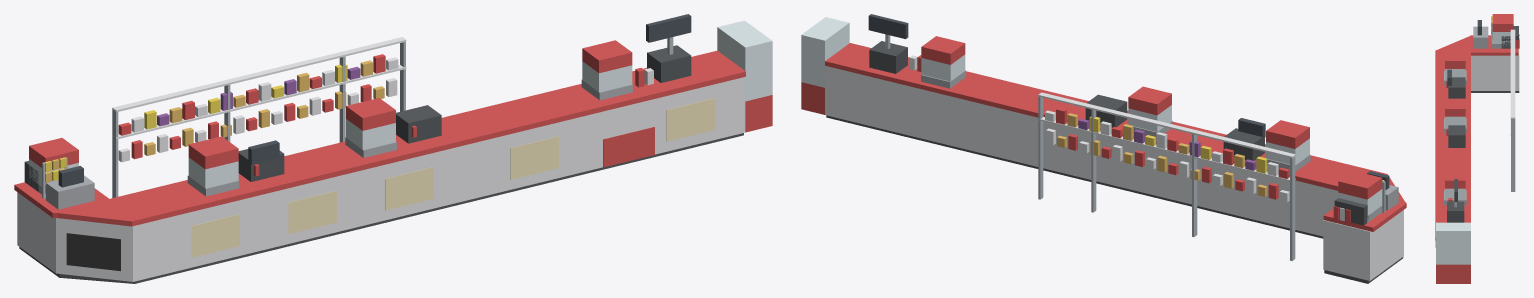
The model's file is bancone-snack.glb.
3 views of the same model, side by side, from view 1: azimuth 30°, elevation 25°; view 2: azimuth 150°, elevation 25°; view 3: azimuth 270°, elevation 25° (orthographic). The views are drawn at different scales.
Visible parts, largest first — view 1: Snack_white, Snack_red, Snack_add_white, Snack_add_cream, Snack_glass, Snack_add_red, Snack_dark, Snack_add_dark, Snack_add_glass, Snack_add_redcup, Snack_add_candy2, Snack_add_grey (+8 smaller); view 2: Snack_white, Snack_red, Snack_add_white, Snack_glass, Snack_add_red, Snack_dark, Snack_add_metal, Snack_add_dark, Snack_add_redcup, Snack_add_glass, Snack_add_candy2, Snack_add_grey (+4 smaller); view 3: Snack_red, Snack_glass, Snack_white, Snack_add_red, Snack_add_dark, Snack_add_glass, Snack_add_white, Snack_add_grey, Snack_dark, Snack_add_metal, Snack_add_screen, Snack_screen (+1 smaller).
Part boxes in pixels (x1,y1,x2,y2): Snack_white: (17, 44, 745, 281); Snack_red: (14, 40, 772, 226); Snack_add_white: (112, 37, 406, 162); Snack_add_cream: (191, 167, 433, 257); Snack_glass: (582, 20, 772, 101); Snack_add_red: (29, 98, 416, 176); Snack_dark: (19, 45, 743, 283); Snack_add_dark: (24, 105, 441, 191); Snack_add_glass: (29, 119, 395, 188); Snack_add_redcup: (118, 54, 385, 159); Snack_add_candy2: (45, 60, 384, 182); Snack_add_grey: (28, 137, 396, 209); Snack_white: (825, 39, 1403, 280); Snack_red: (801, 36, 1406, 231); Snack_add_white: (1038, 92, 1344, 220); Snack_glass: (801, 17, 965, 87); Snack_add_red: (1128, 86, 1382, 199); Snack_dark: (826, 41, 1403, 283); Snack_add_metal: (1038, 96, 1385, 260); Snack_add_dark: (1085, 94, 1368, 225); Snack_add_redcup: (1056, 107, 1350, 222); Snack_add_glass: (1128, 105, 1382, 215); Snack_add_candy2: (1057, 113, 1267, 196); Snack_add_grey: (1133, 121, 1398, 222); Snack_red: (1435, 35, 1518, 283); Snack_glass: (1436, 188, 1470, 264); Snack_white: (1438, 49, 1519, 252); Snack_add_red: (1445, 14, 1513, 135); Snack_add_dark: (1448, 26, 1518, 147); Snack_add_glass: (1445, 32, 1510, 128); Snack_add_white: (1510, 29, 1519, 135); Snack_add_grey: (1444, 26, 1510, 133); Snack_dark: (1447, 91, 1519, 222); Snack_add_metal: (1491, 22, 1515, 191); Snack_add_screen: (1447, 20, 1481, 87); Snack_screen: (1454, 179, 1457, 201).
Bounding box in the file's own units: 11.42 × 1.91 × 1.94.
